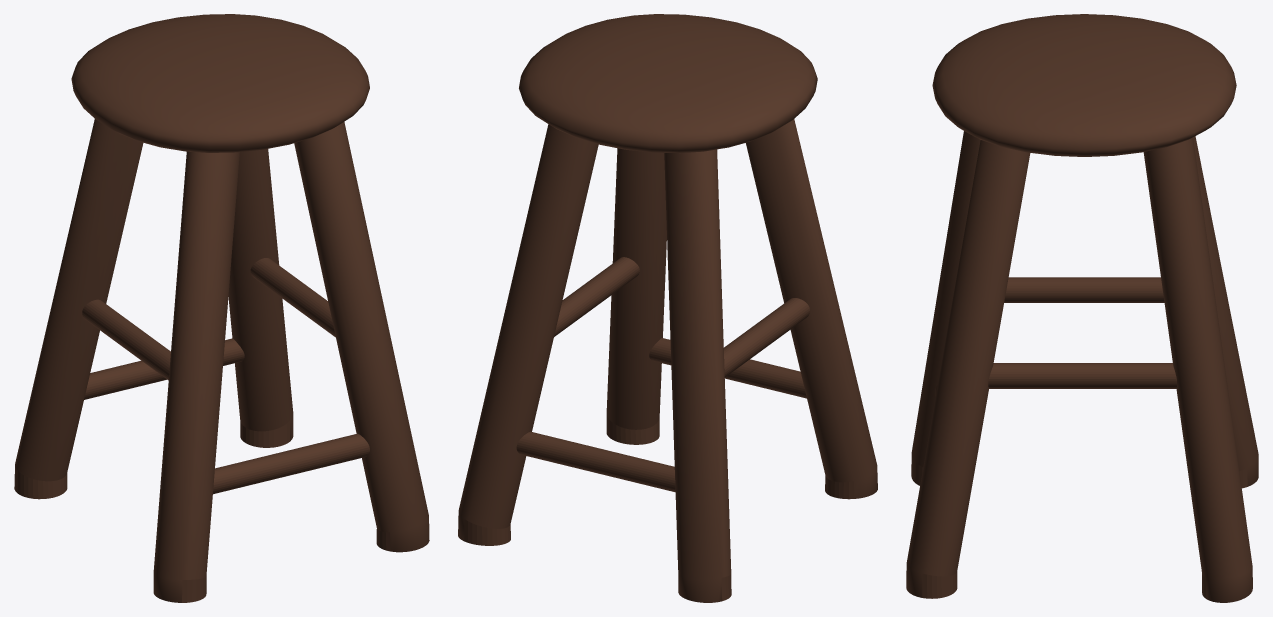
Rendered from Stool.fbx.
3 renders of one model, left to right at view 1: azimuth 30°, elevation 25°; view 2: azimuth 150°, elevation 25°; view 3: azimuth 270°, elevation 25°, orthographic. The views are drawn at different scales.
Parts seen in each view (by area): view 1: Cylinder.002; view 2: Cylinder.002; view 3: Cylinder.002.
Part boxes in pixels (<box>): Cylinder.002: <box>14,14,429,602</box>; Cylinder.002: <box>458,14,877,602</box>; Cylinder.002: <box>906,14,1258,602</box>.
Bounding box in the file's own units: 68.77 × 111 × 73.89.
